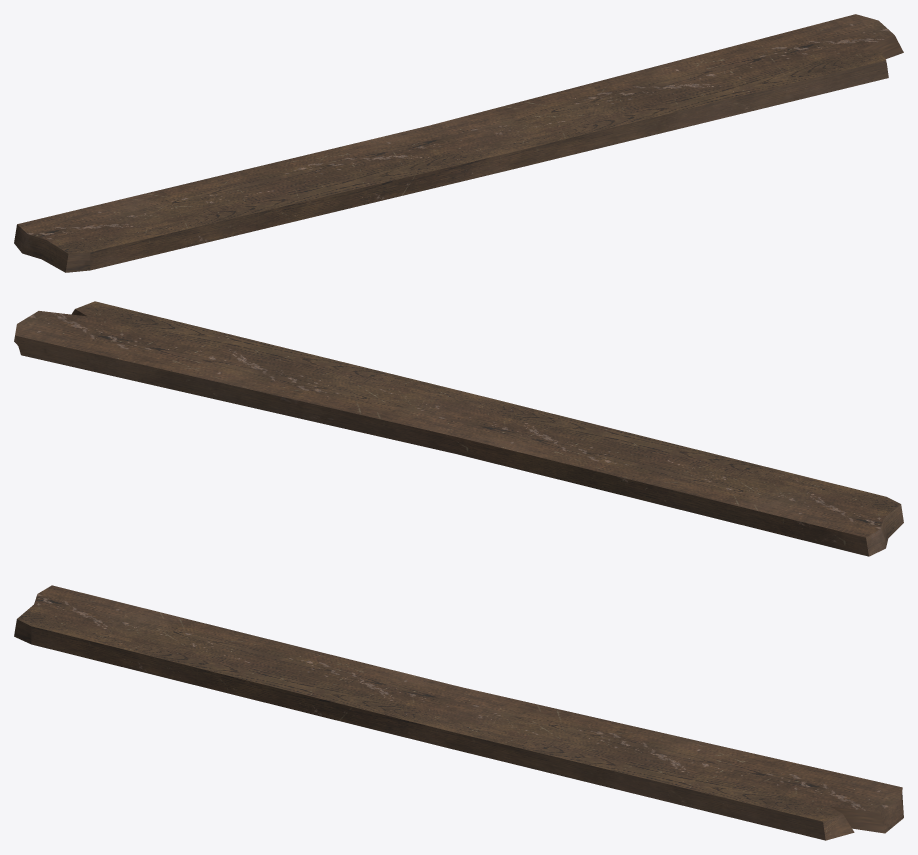
File: SM_Plank_03.fbx
3 renders of one model, top to bottom at view 1: azimuth 30°, elevation 25°; view 2: azimuth 150°, elevation 25°; view 3: azimuth 330°, elevation 25°, orthographic.
Parts seen in each view (by area): view 1: SM_Plank_03_LOD0; view 2: SM_Plank_03_LOD0; view 3: SM_Plank_03_LOD0.
Part boxes in pixels (x1,y1,x2,y2): SM_Plank_03_LOD0: (14, 14, 903, 272); SM_Plank_03_LOD0: (14, 301, 903, 556); SM_Plank_03_LOD0: (14, 585, 903, 840).
Size of what is drawn, in the model's own units: 531 by 10.67 by 58.54.
